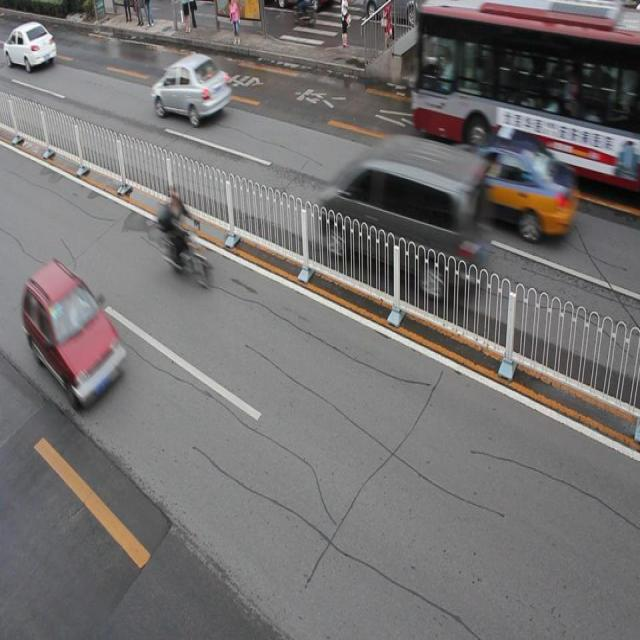car: (23, 261, 124, 399), (457, 133, 577, 239), (152, 51, 233, 123), (1, 20, 57, 70)
truck: (322, 134, 485, 295)
van: (414, 2, 640, 195)
